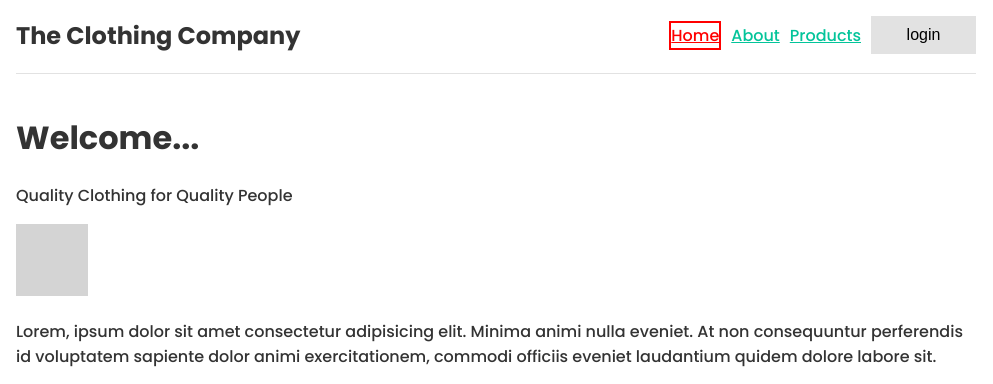
Test: React Router Application E2E Tests › should logout successfully after being logged in
This screenshot has width=993, height=384.
Note: Login first
What coordinates should you click on to do the following:
click the button with test id "login_button"
I would click on:
 (924, 35)
Its box is [871,16,976,54].
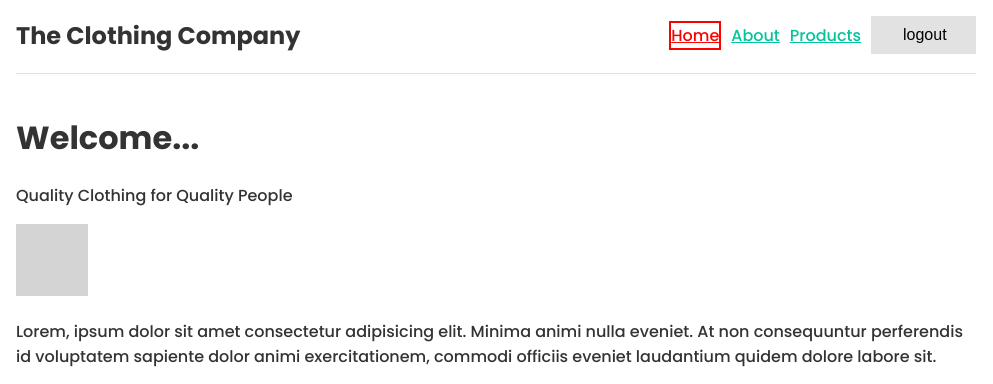
Result: the button with test id "login_button" reads "logout"
Note: Now logout
What coordinates should you click on to do the following:
click the button with test id "login_button"
I would click on:
 (924, 35)
Its box is [871,16,976,54].
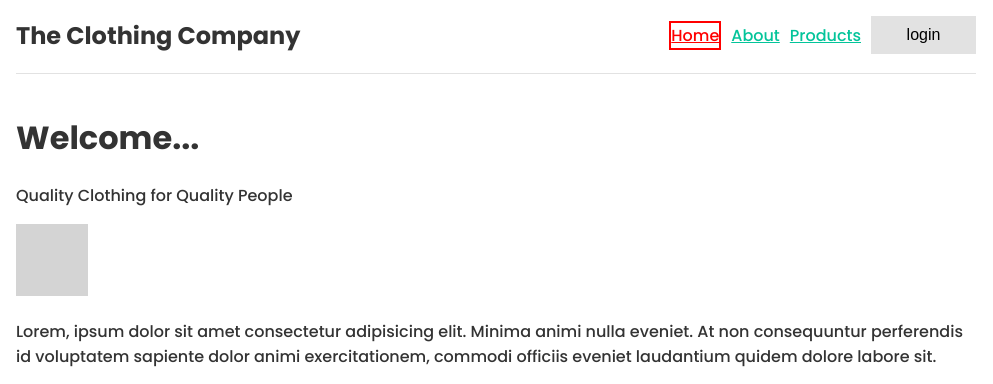
Result: the button with test id "login_button" reads "login" at [871,16,976,54]
